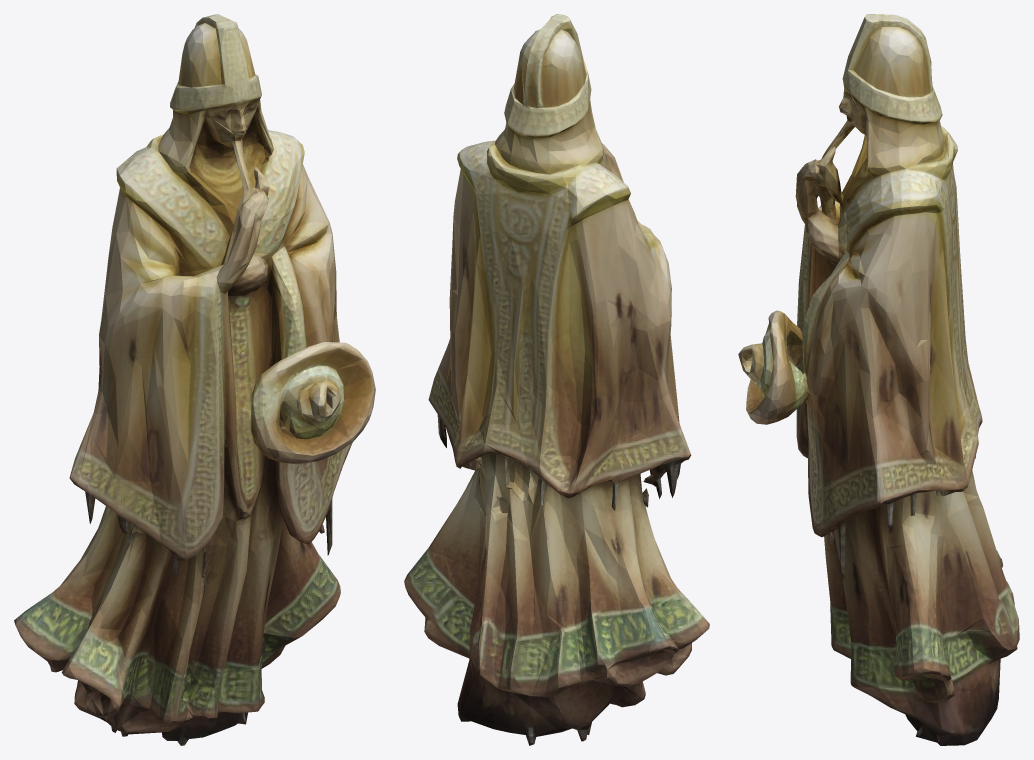
Rendered from builderWraith.glb.
3 renders of one model, left to right at view 1: azimuth 30°, elevation 25°; view 2: azimuth 150°, elevation 25°; view 3: azimuth 270°, elevation 25°, orthographic. The views are drawn at different scales.
Parts seen in each view (by area): view 1: world; view 2: world; view 3: world.
Part boxes in pixels (x1,y1,x2,y2): world: [14, 14, 375, 745]; world: [404, 14, 709, 745]; world: [738, 14, 1019, 745].
Bounding box in the file's own units: 0.4351 × 0.9994 × 0.3641.
1 material, 1 textured.
